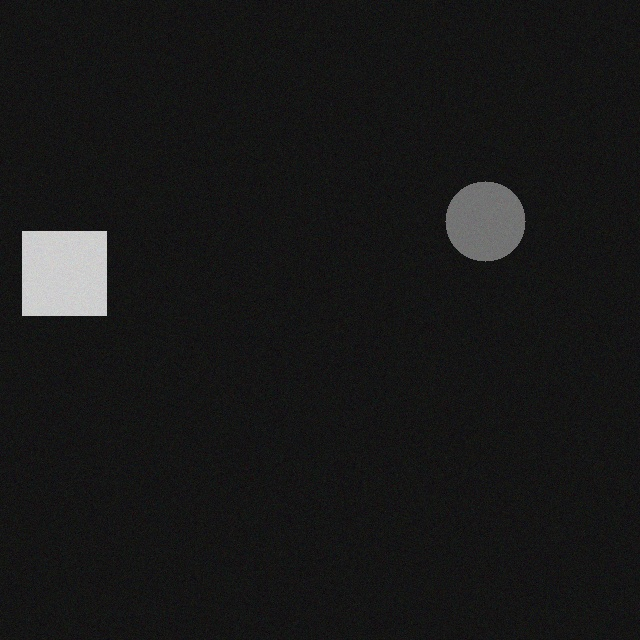circle: (448, 194, 528, 274)
square: (25, 244, 109, 328)
